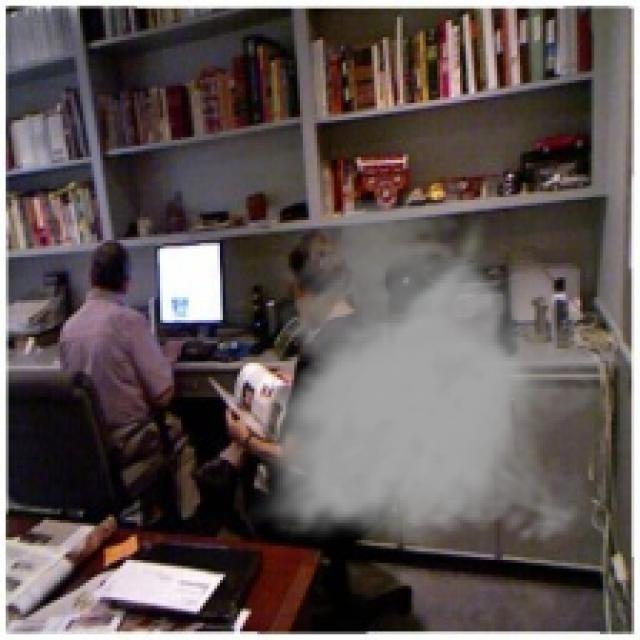smoke: (249, 195, 620, 554)
